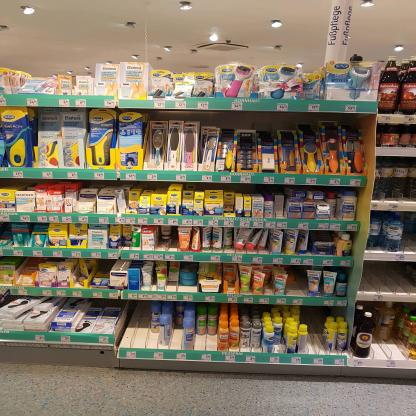empty_space: (120, 305, 131, 351), (365, 261, 379, 297), (136, 309, 148, 349), (383, 263, 396, 297), (400, 264, 411, 298), (406, 216, 412, 255)
